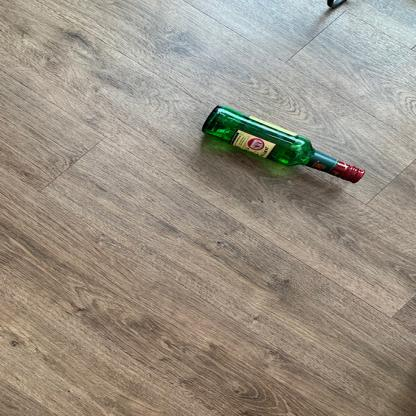trash: (196, 104, 368, 185)
